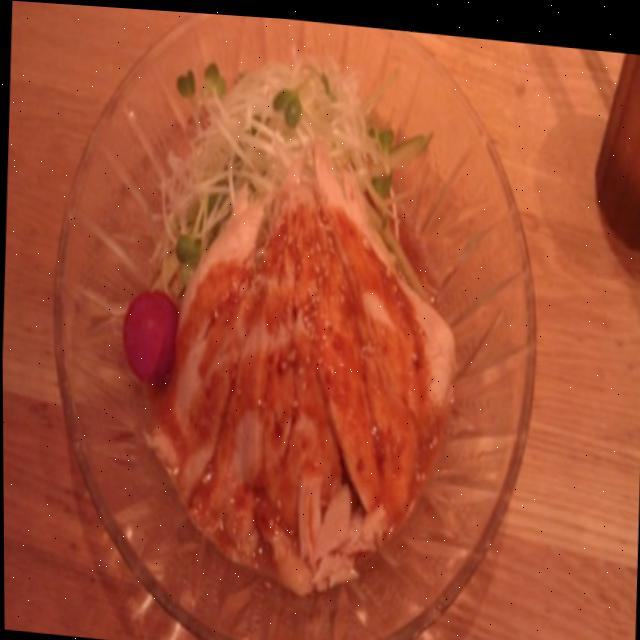面条主食: (40, 2, 563, 640)
